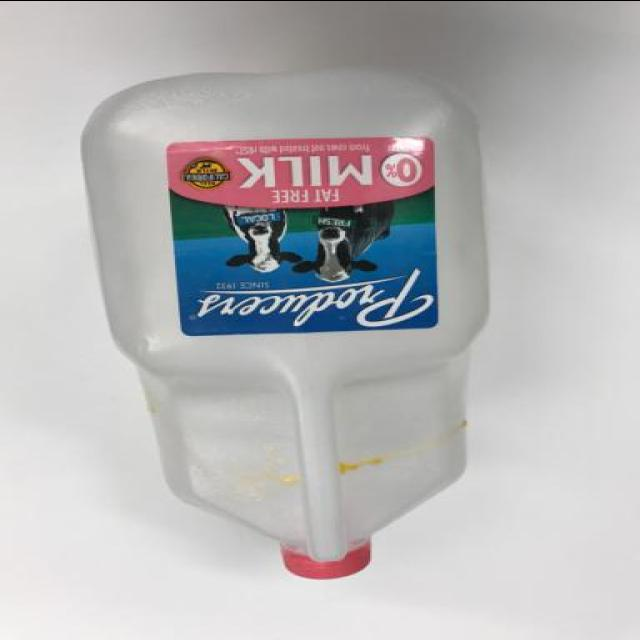HDPEM: (81, 62, 496, 582)
